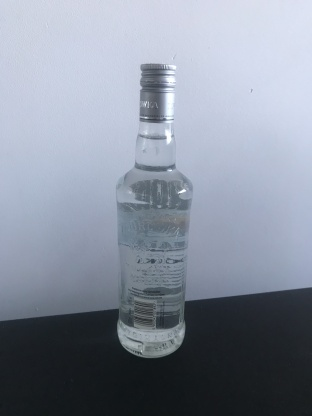nakretka: (138, 62, 176, 123)
